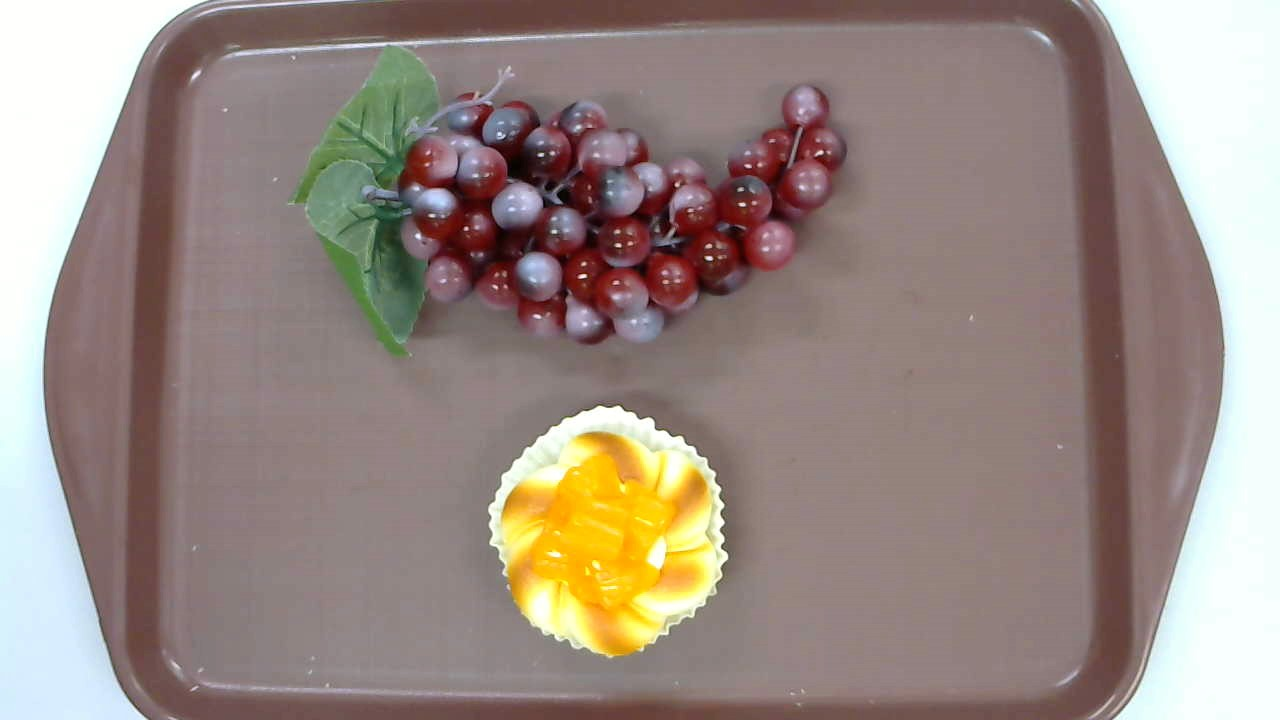grape: (288, 34, 847, 360)
mango tart: (486, 403, 729, 659)
